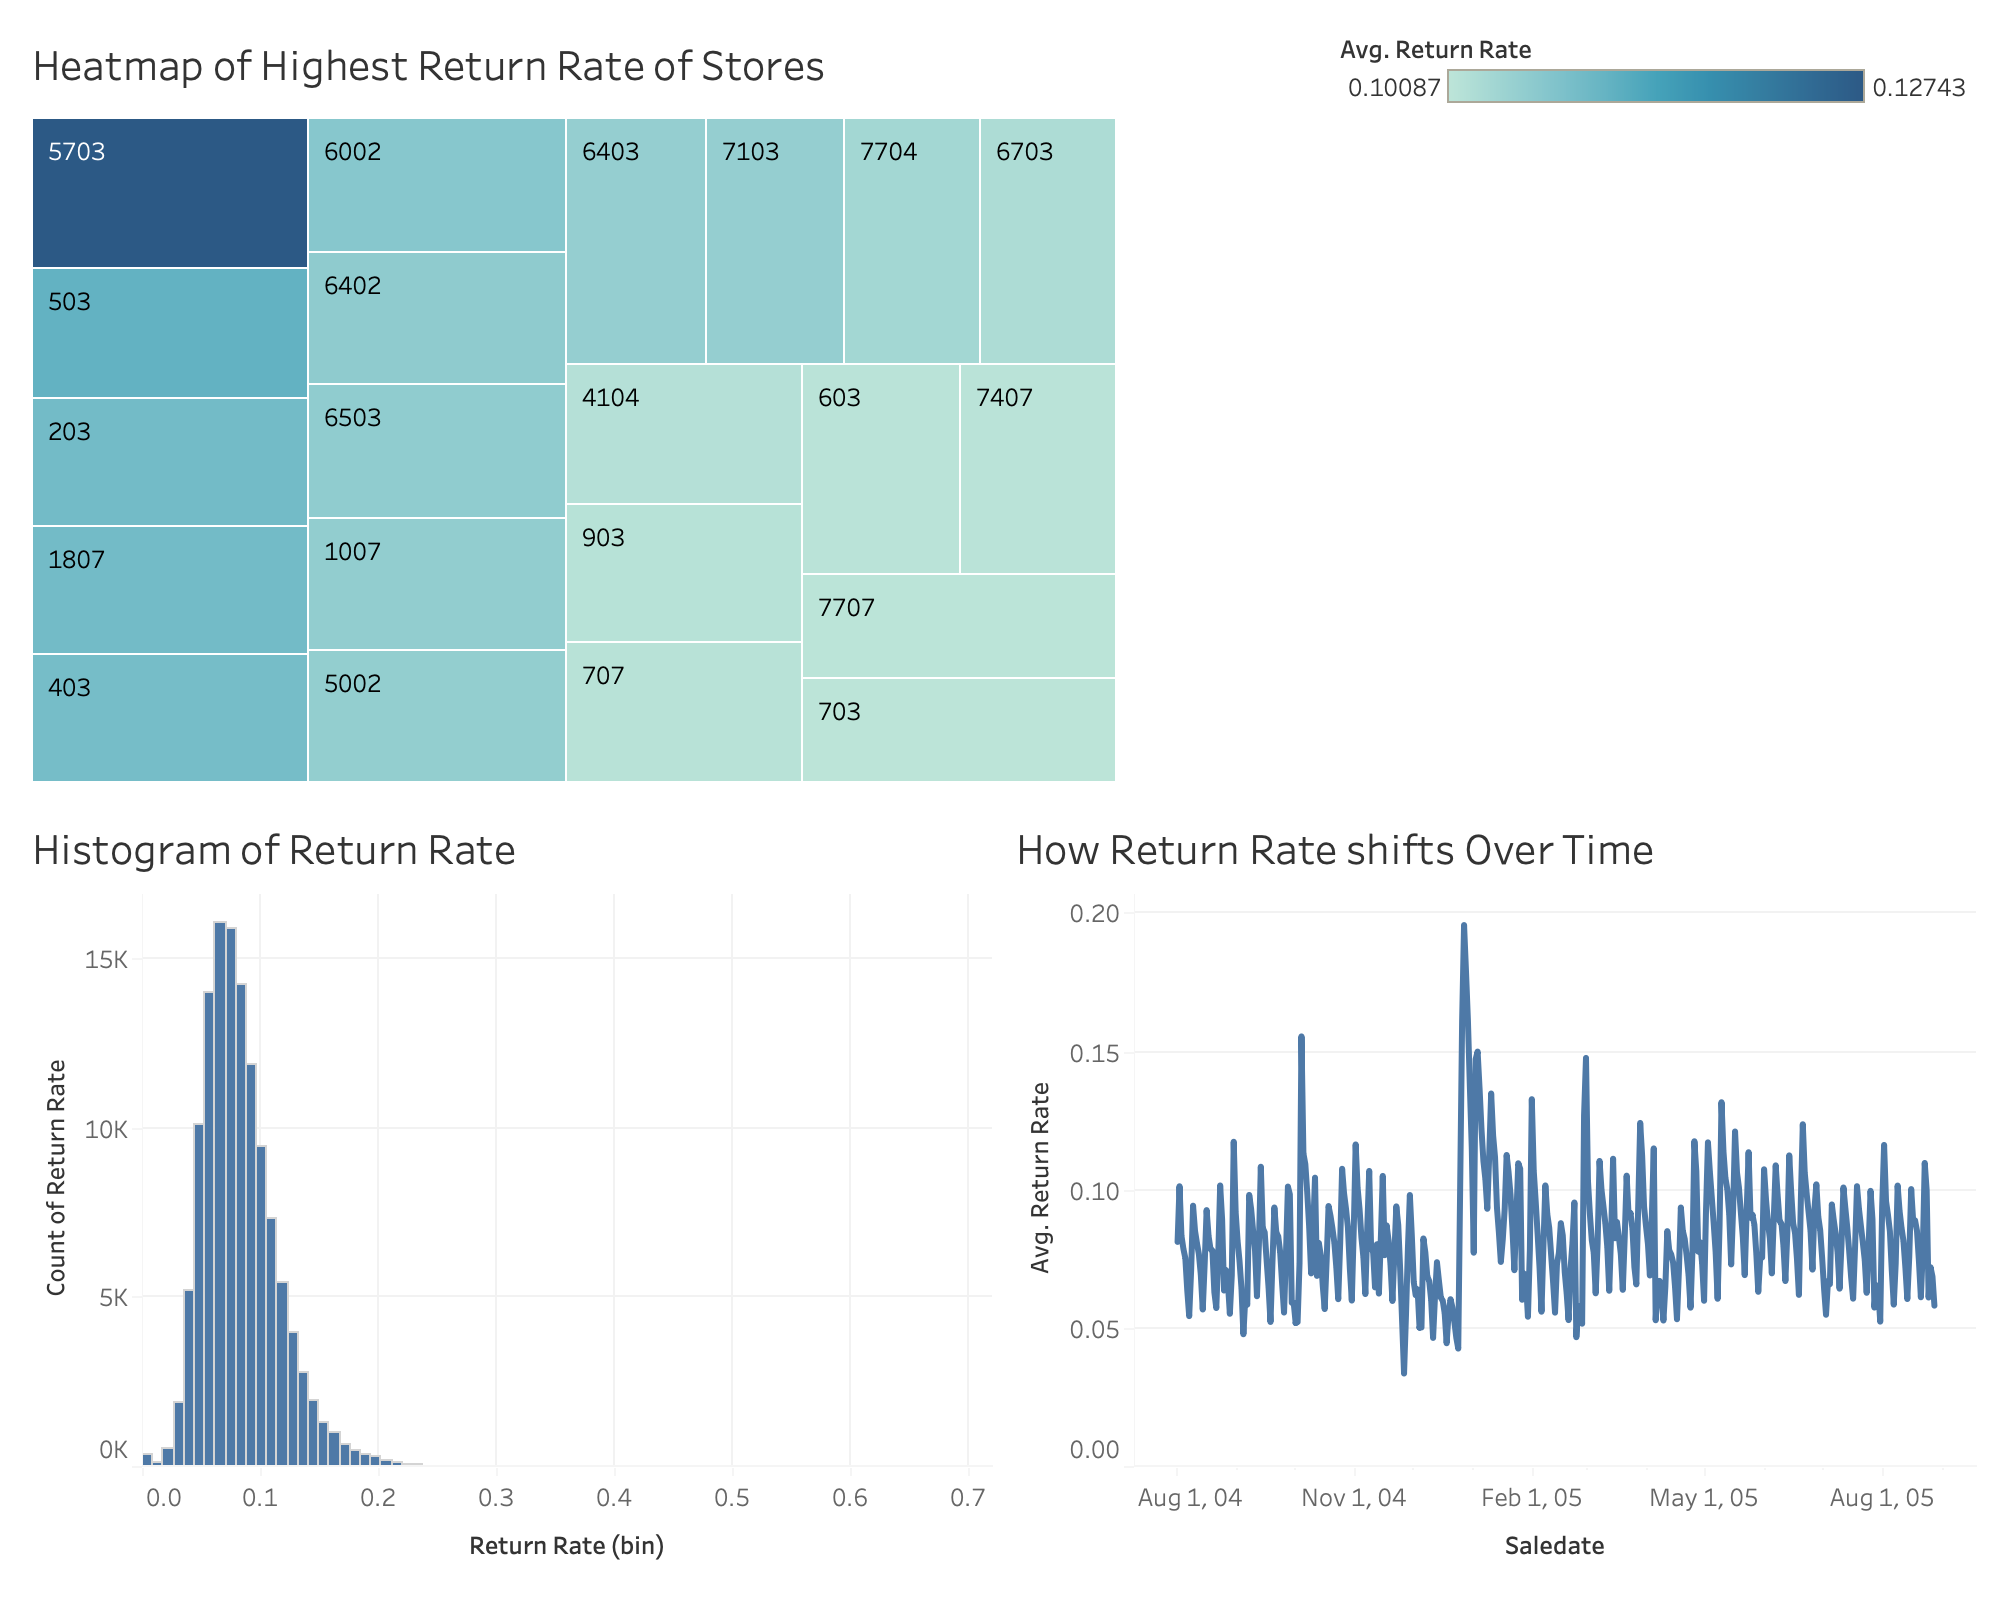

The page's visual inventory and layout, read from the dashboard file:
{"tool":"tableau","page":{"name":"Dashboard 1","canvas":[1000,800],"ordinal":0},"visuals":[{"type":"worksheet","title":"Sheet 3","mark":"Automatic","box":[8,8,658,392]},{"type":"legend","title":"Sheet 3","param":"[federated.1hlljqf0toubit19hhxwk0gd4xl8].[avg:ReturnRate:qk]","box":[666,8,326,392]},{"type":"worksheet","title":"Sheet 1","mark":"Automatic","rows":["ReturnRate"],"cols":["Return Rate (bin)"],"box":[8,400,492,392]},{"type":"worksheet","title":"Sheet 2","mark":"Automatic","rows":["ReturnRate"],"cols":["SALEDATE"],"box":[500,400,492,392]}]}

Visuals, with their boxes in screenshot pixels (x1, y1, x2, y2), scaled from the page's 1000x800 canvas onto the 2000x1600 screenshot:
"Sheet 3" worksheet: {"left": 16, "top": 16, "right": 1332, "bottom": 800}
"Sheet 3" legend: {"left": 1332, "top": 16, "right": 1984, "bottom": 800}
"Sheet 1" worksheet: {"left": 16, "top": 800, "right": 1000, "bottom": 1584}
"Sheet 2" worksheet: {"left": 1000, "top": 800, "right": 1984, "bottom": 1584}
